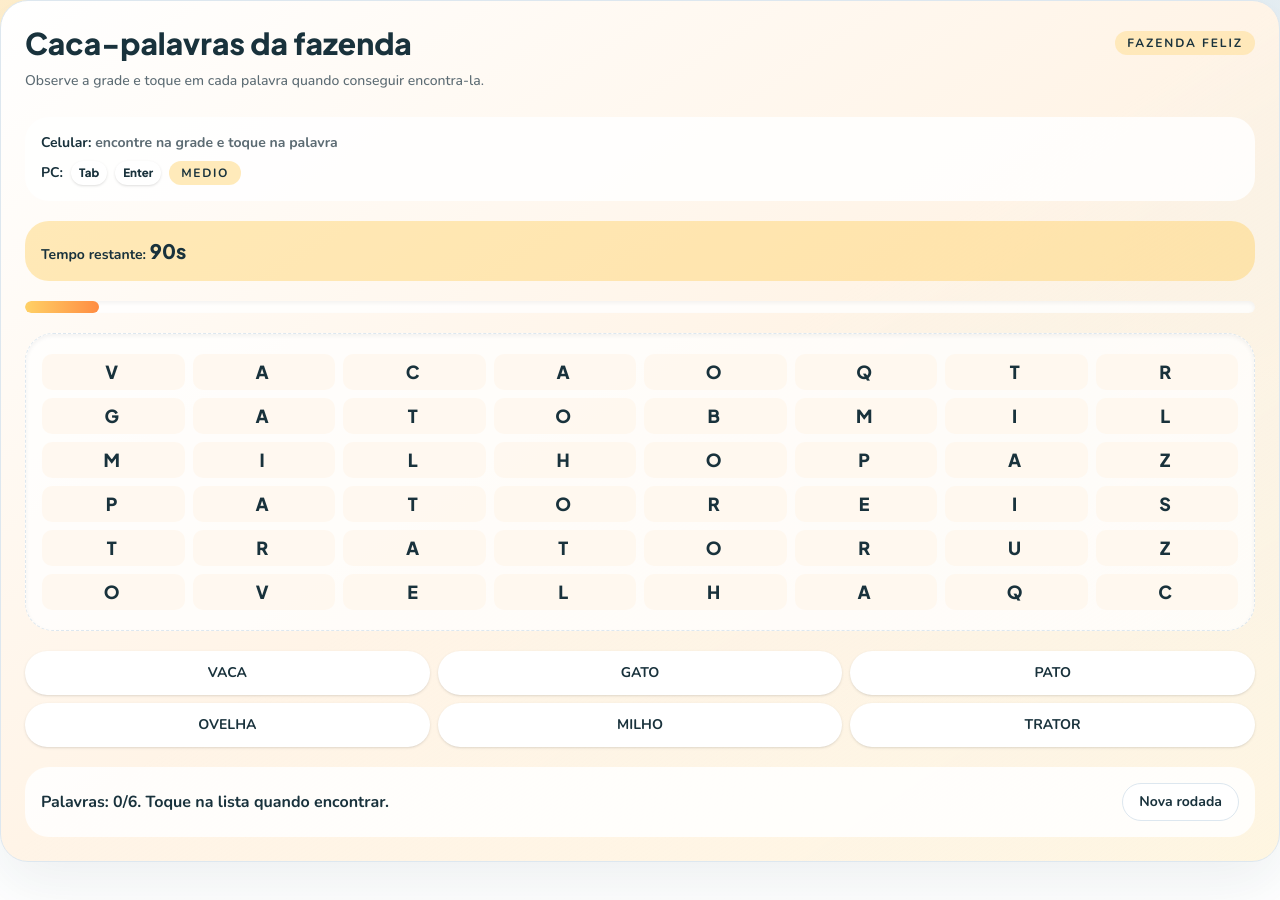
Test: WorksheetGame › completes the word search online flow when all words are marked
Click the button "VACA" at (227, 673), box 25,651 -> 430,695
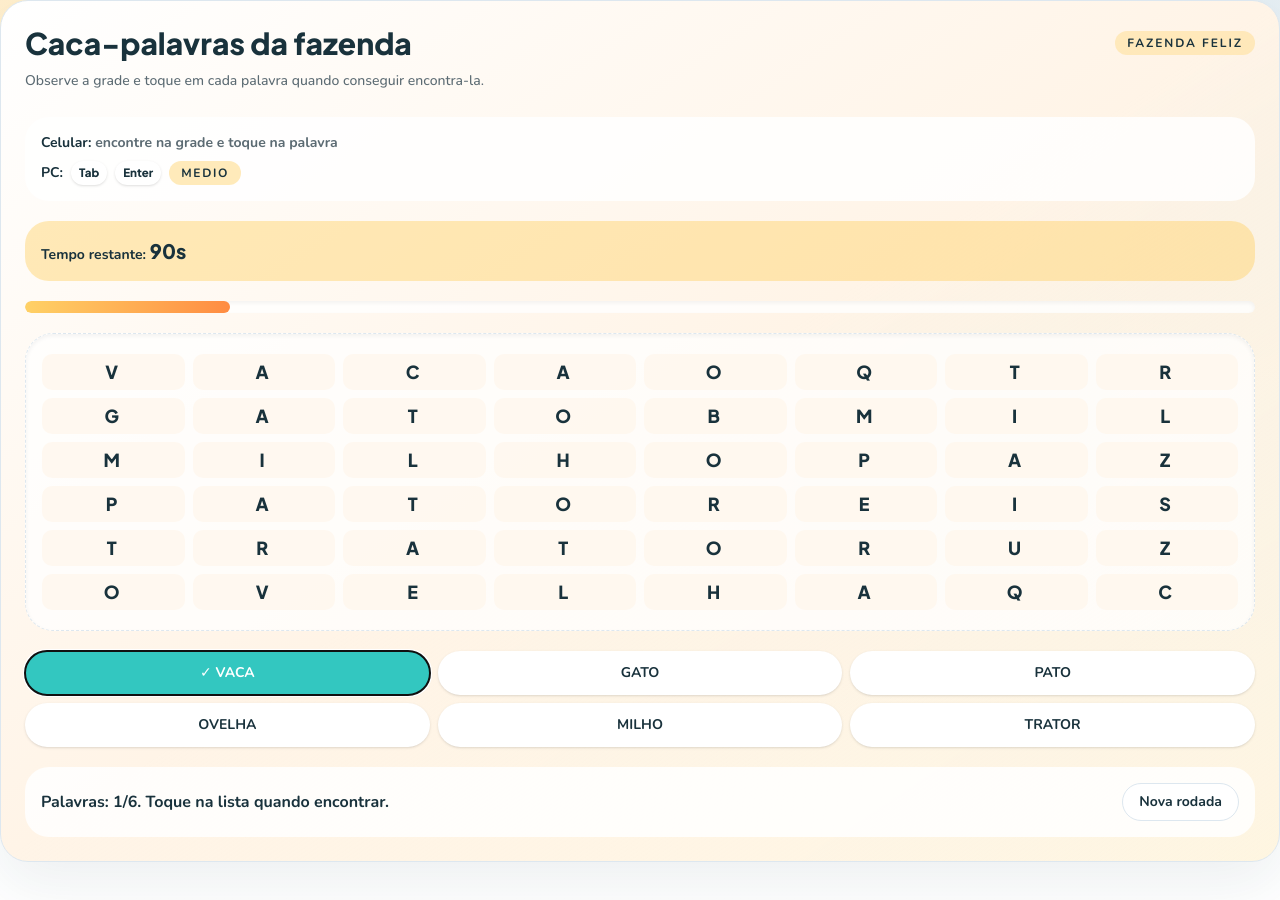
Click the button "GATO" at (640, 673), box 438,651 -> 842,695
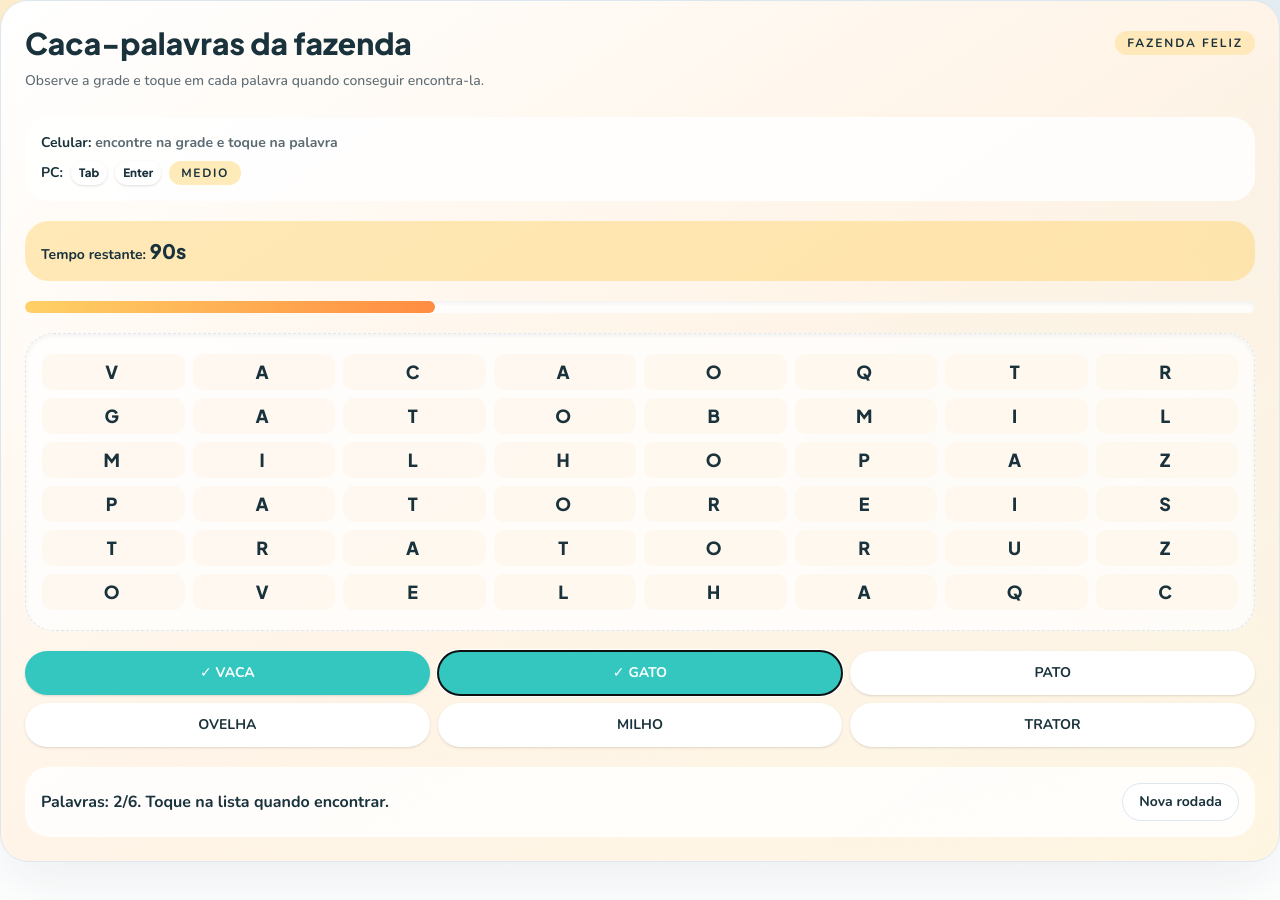
Click the button "PATO" at (1053, 673), box 850,651 -> 1255,695
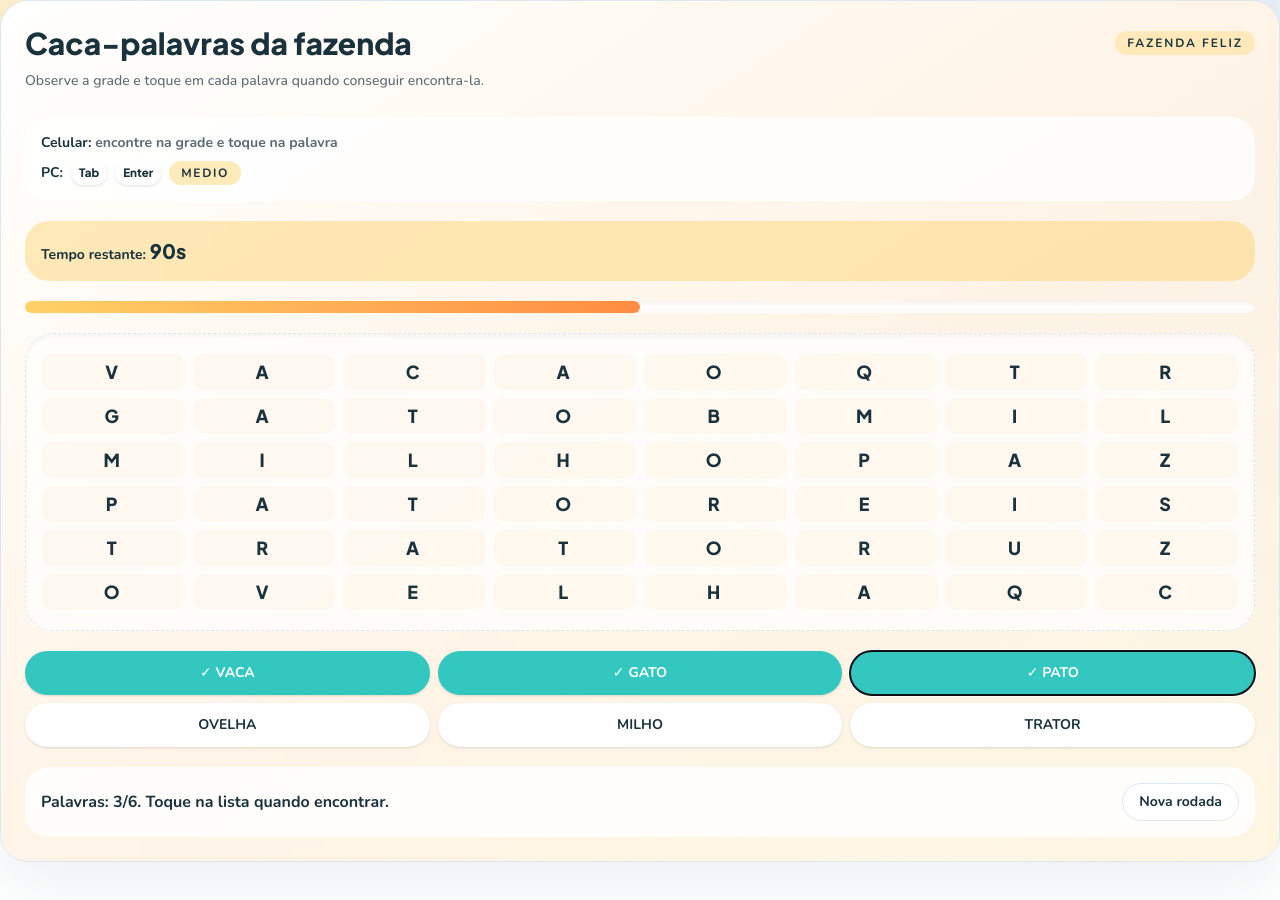
Click the button "OVELHA" at (227, 725), box 25,703 -> 430,747
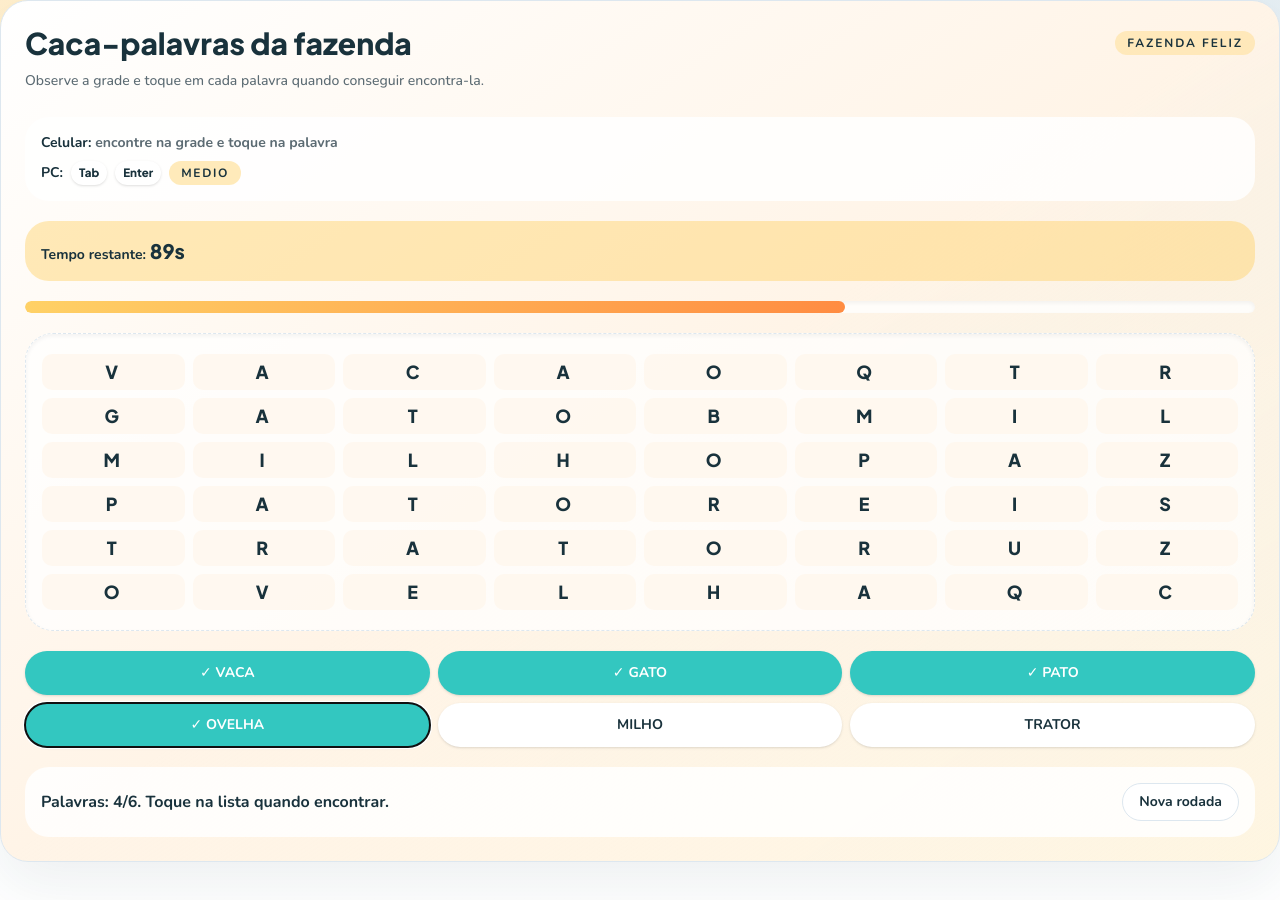
Click the button "MILHO" at (640, 725), box 438,703 -> 842,747
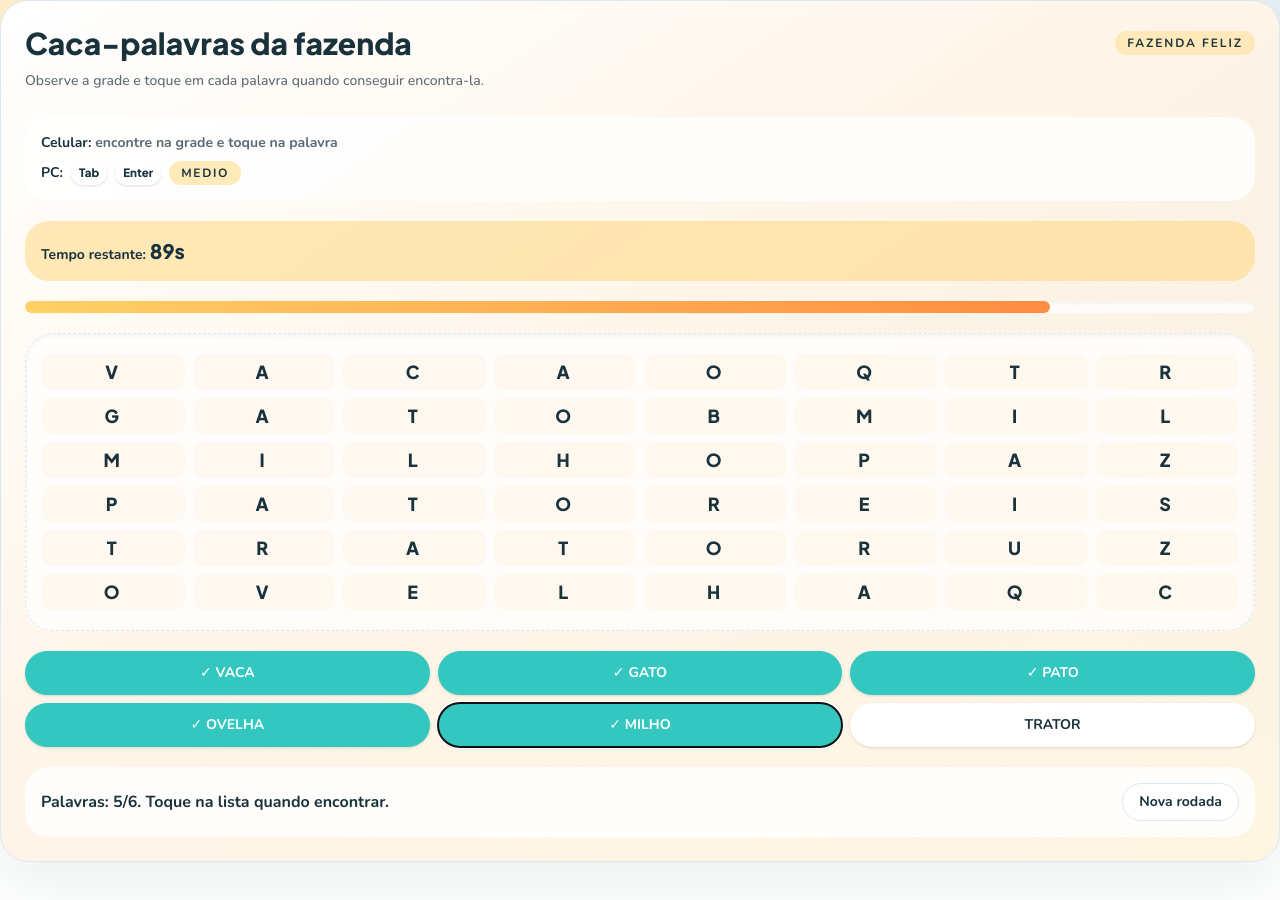
Click the button "TRATOR" at (1053, 725), box 850,703 -> 1255,747
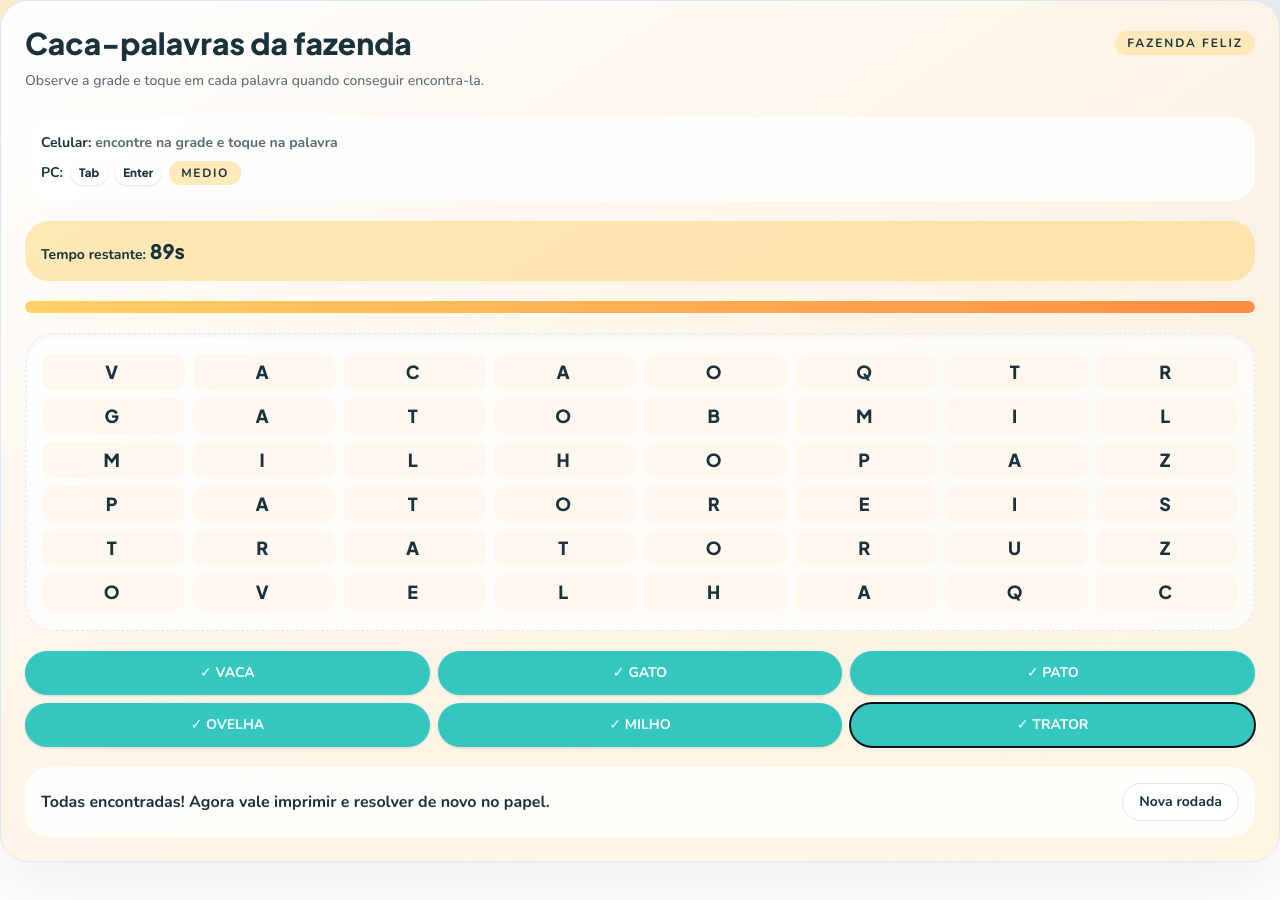
expect the text "Todas encontradas" is shown: met, box 41,791 -> 550,813
